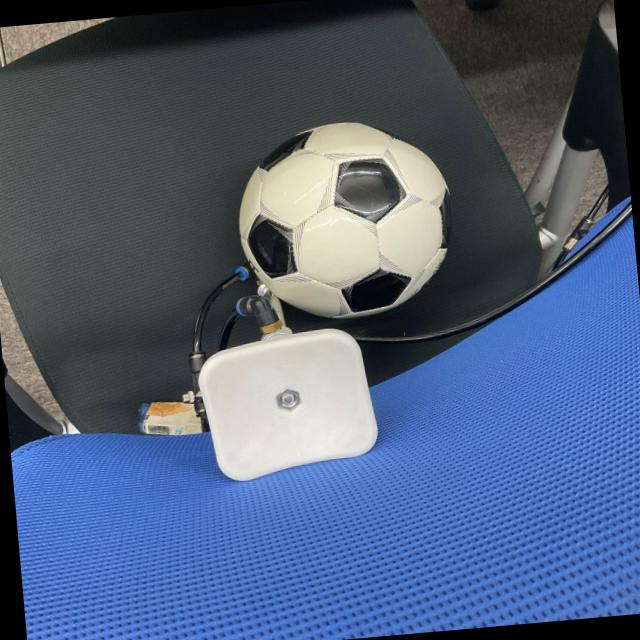Soccer Ball: (230, 113, 460, 328)
